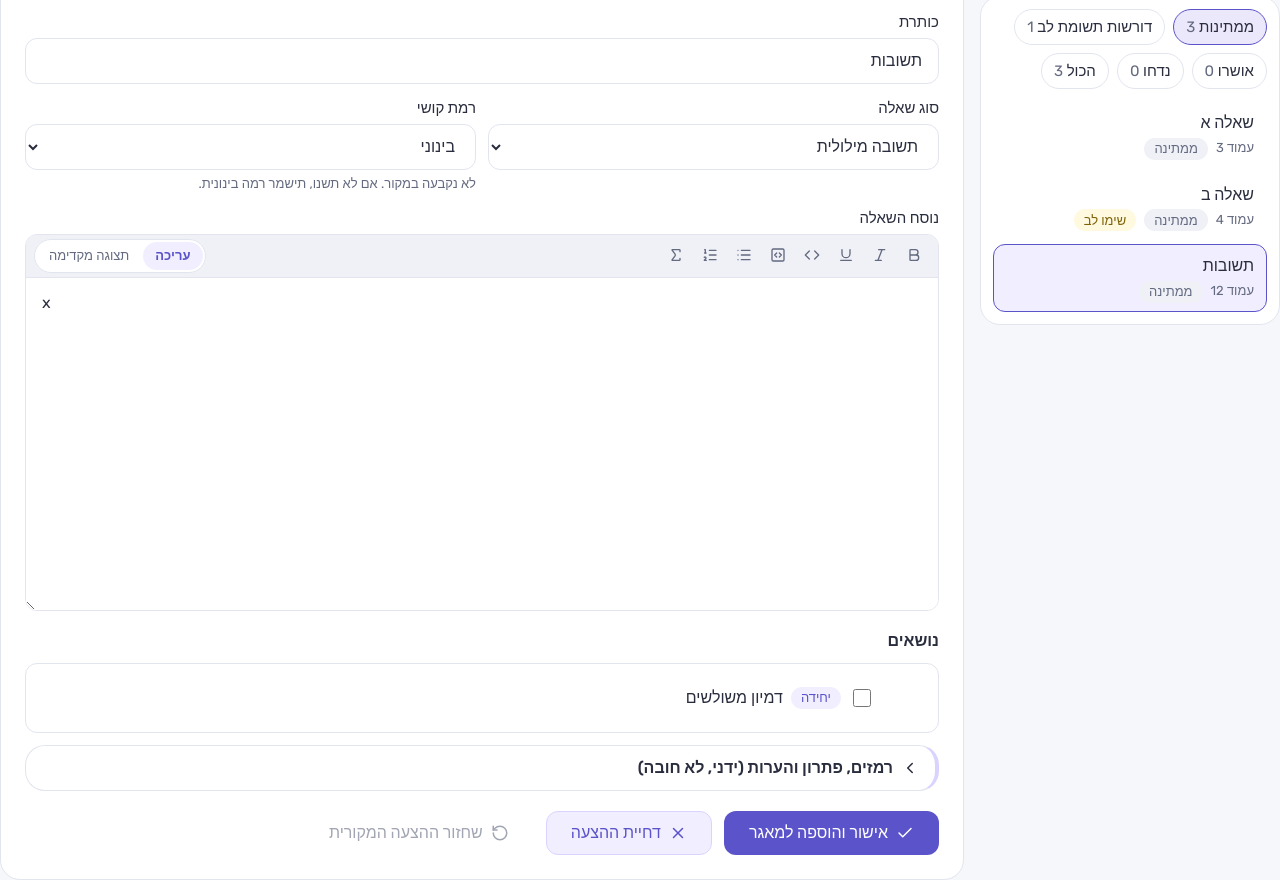
Test: ImportReviewPage › reject asks first, says it cannot be undone, and never approves
(page scrolled)
Check: the field showing "תשובות" is shown, box [25,38,939,84]
Click the button "דחיית ההצעה" at (629, 832), box [546,810,712,854]
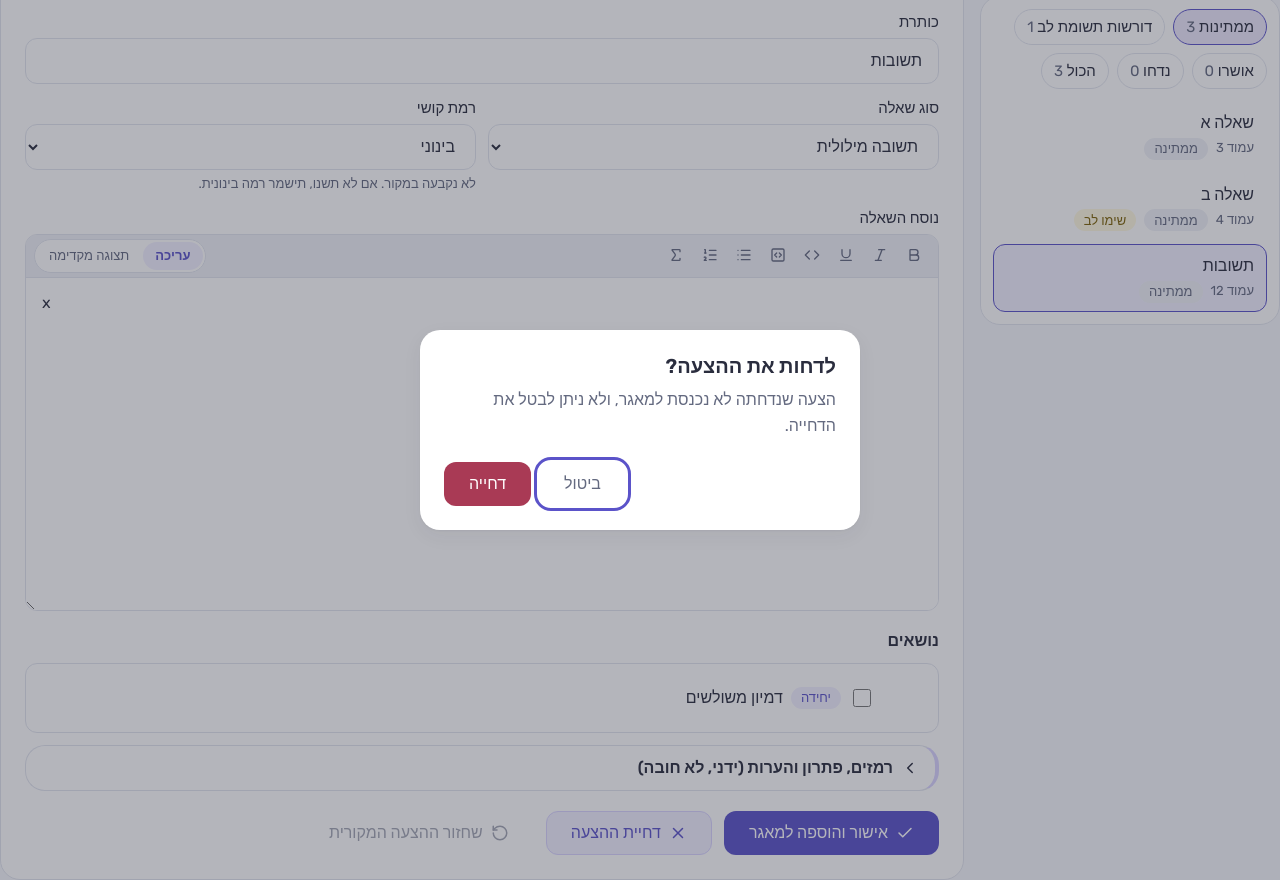
Check: the text "הצעה שנדחתה לא נכנסת למאגר, ולא ניתן לבטל את הדחייה." is shown, box [444,387,836,438]
Click the button "דחייה" at (488, 484), box [444,462,531,506]
(page scrolled)
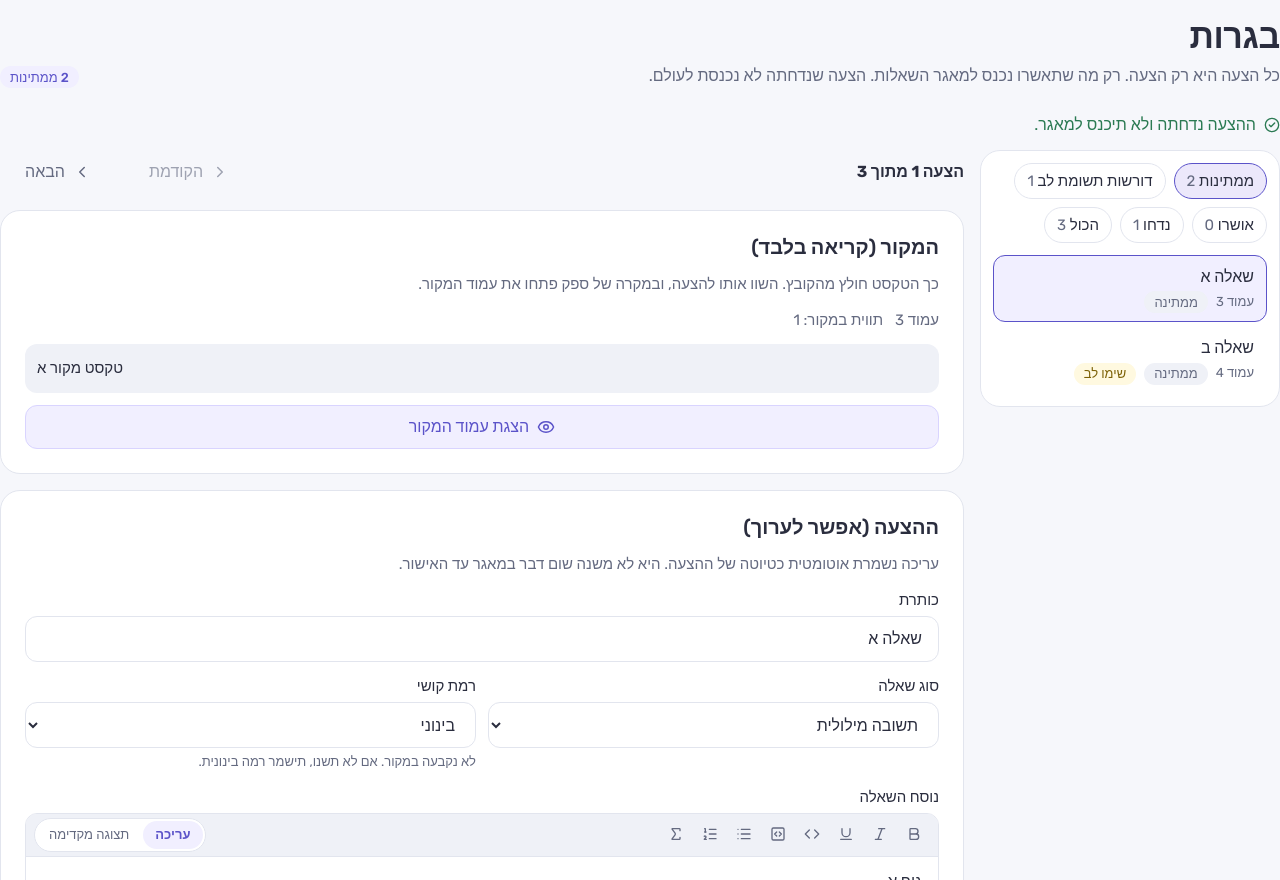
Check: the text "ההצעה נדחתה ולא תיכנס למאגר." is shown, box [1034,115,1279,134]
